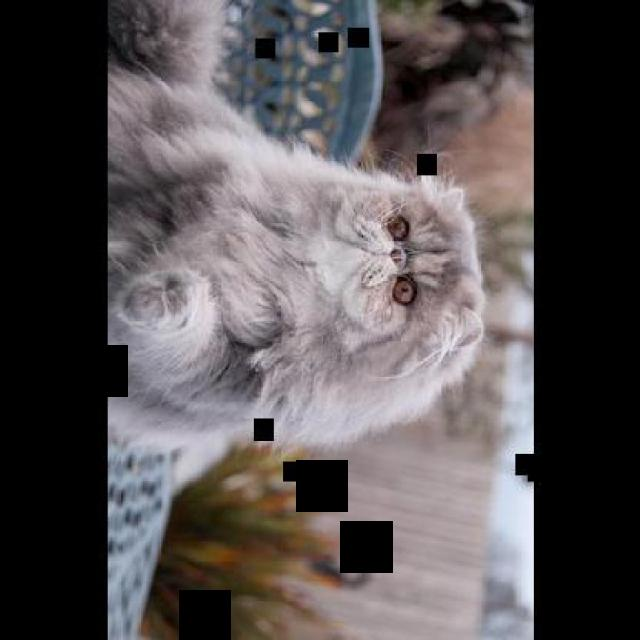unauthorized: (106, 0, 486, 454)
